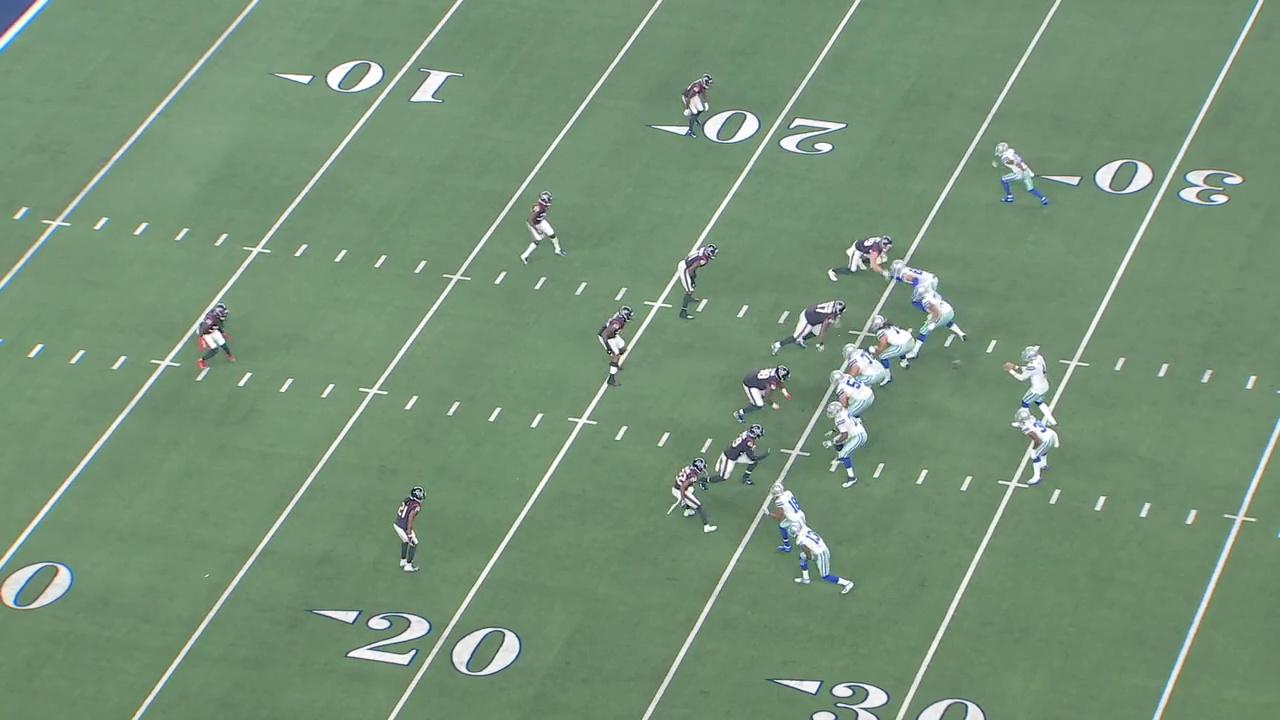player: (699, 423, 775, 493), (787, 519, 855, 597), (1001, 343, 1061, 430), (767, 296, 849, 357), (761, 480, 817, 563), (821, 400, 870, 490), (1011, 405, 1062, 488), (989, 140, 1051, 208), (669, 454, 719, 536), (881, 257, 948, 318), (912, 282, 970, 352), (519, 188, 569, 268), (825, 232, 899, 286), (732, 363, 794, 425), (390, 484, 431, 576), (675, 242, 721, 323), (868, 313, 917, 388), (597, 300, 637, 389), (194, 300, 238, 374), (829, 369, 877, 428), (680, 70, 716, 141), (842, 341, 887, 396)
